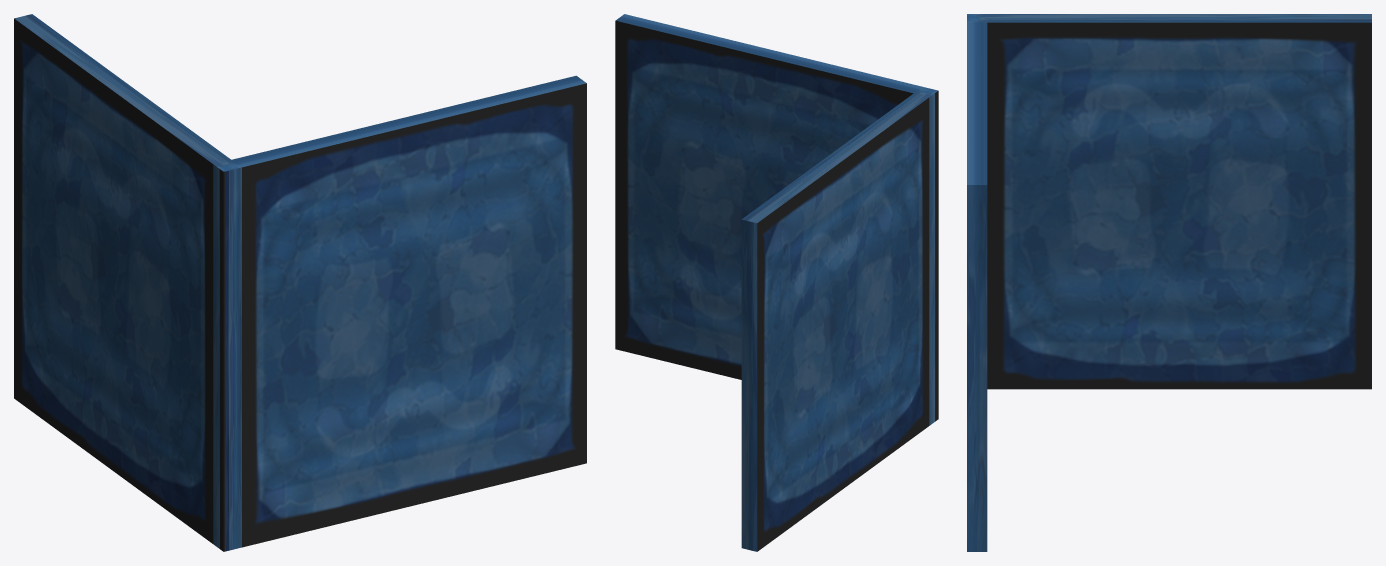
File: CornerWallTile_Prototype.fbx
The picture shows the model from 3 angles, left to right: view 1: azimuth 30°, elevation 25°; view 2: azimuth 150°, elevation 25°; view 3: azimuth 270°, elevation 25°; orthographic projection. The views are drawn at different scales.
Parts seen in each view (by area): view 1: CornerWallTile_Prototype; view 2: CornerWallTile_Prototype; view 3: CornerWallTile_Prototype.
Part boxes in pixels (left/top/right/bottom): CornerWallTile_Prototype: left=14, top=14, right=586, bottom=551; CornerWallTile_Prototype: left=615, top=14, right=938, bottom=551; CornerWallTile_Prototype: left=967, top=14, right=1371, bottom=551.
Bounding box in the file's own units: 200 × 200 × 200.
Materials: 1 (1 with a texture image).
